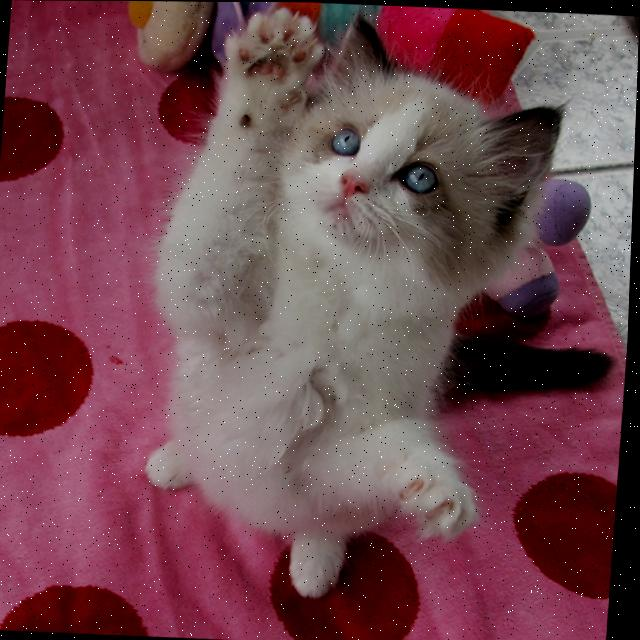Ragdoll: (125, 1, 572, 607)
